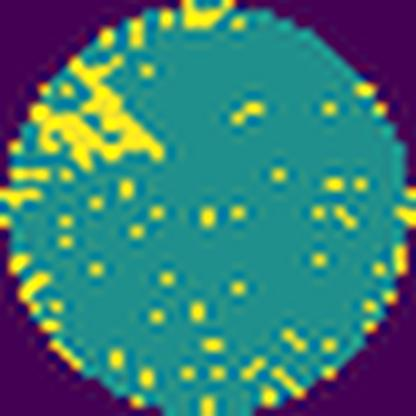Loc: (39, 59, 168, 172)
